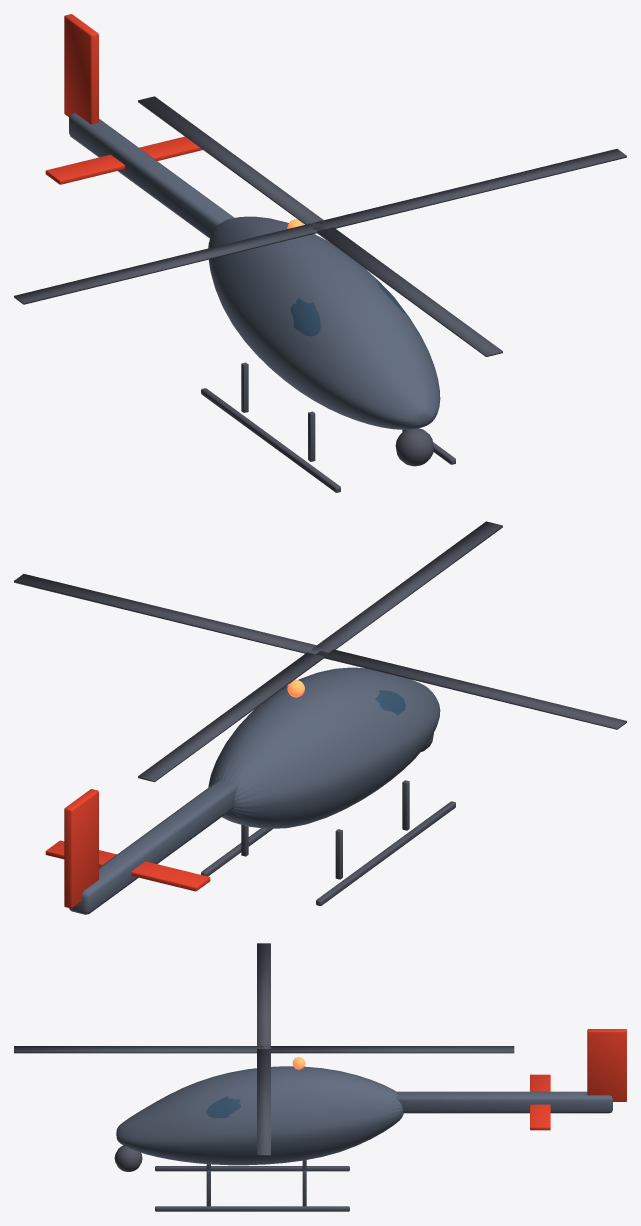
The model's file is tv_helicopter_h135.glb.
The picture shows the model from 3 angles, top to bottom: view 1: azimuth 30°, elevation 25°; view 2: azimuth 150°, elevation 25°; view 3: azimuth 270°, elevation 25°; orthographic projection. The views are drawn at different scales.
Parts seen in each view (by area): view 1: Heli_Fuselage, Heli_Tailboom, Rotor_Blade_2, Rotor_Blade_0, Heli_VFin, Rotor_Blade_1, Rotor_Blade_3, Heli_HStab, Heli_Skid_-0.82, Heli_Cineflex, Heli_Canopy; view 2: Heli_Fuselage, Heli_Tailboom, Rotor_Blade_2, Rotor_Blade_0, Heli_VFin, Rotor_Blade_1, Rotor_Blade_3, Heli_HStab, Heli_Skid_-0.82, Heli_Skid_0.82; view 3: Heli_Fuselage, Heli_Tailboom, Heli_VFin, Rotor_Blade_1, Rotor_Blade_3, Rotor_Blade_0, Rotor_Blade_2, Heli_Skid_0.82, Heli_Skid_-0.82, Heli_HStab, Heli_Cineflex, Heli_Canopy.
Boxes of the visible parts, box(x1,y1,x2,y2) form: Heli_Fuselage: box(208, 216, 440, 429); Heli_Tailboom: box(69, 113, 234, 238); Rotor_Blade_2: box(14, 222, 324, 304); Rotor_Blade_0: box(316, 148, 626, 229); Heli_VFin: box(64, 14, 98, 124); Rotor_Blade_1: box(312, 224, 502, 356); Rotor_Blade_3: box(138, 96, 326, 225); Heli_HStab: box(45, 136, 202, 184); Heli_Skid_-0.82: box(201, 388, 340, 492); Heli_Cineflex: box(395, 428, 433, 466); Heli_Canopy: box(290, 280, 405, 336); Heli_Fuselage: box(208, 667, 440, 828); Heli_Tailboom: box(69, 779, 237, 914); Rotor_Blade_2: box(316, 649, 626, 729); Rotor_Blade_0: box(14, 574, 321, 654); Heli_VFin: box(64, 789, 98, 908); Rotor_Blade_1: box(312, 521, 502, 652); Rotor_Blade_3: box(138, 649, 326, 782); Heli_HStab: box(45, 840, 210, 891); Heli_Skid_-0.82: box(316, 801, 455, 905); Heli_Skid_0.82: box(201, 828, 272, 876); Heli_Fuselage: box(116, 1066, 403, 1165); Heli_Tailboom: box(396, 1091, 612, 1113); Heli_VFin: box(587, 1029, 626, 1101); Rotor_Blade_1: box(14, 1046, 263, 1053); Rotor_Blade_3: box(266, 1046, 514, 1053); Rotor_Blade_0: box(257, 1049, 270, 1155); Rotor_Blade_2: box(257, 943, 270, 1048); Heli_Skid_0.82: box(155, 1206, 349, 1211); Heli_Skid_-0.82: box(155, 1166, 349, 1171); Heli_HStab: box(530, 1074, 550, 1130); Heli_Cineflex: box(114, 1145, 142, 1171); Heli_Canopy: box(206, 1096, 240, 1118).
Size of the model in its own units: 8.6 by 3.06 by 10.54.
